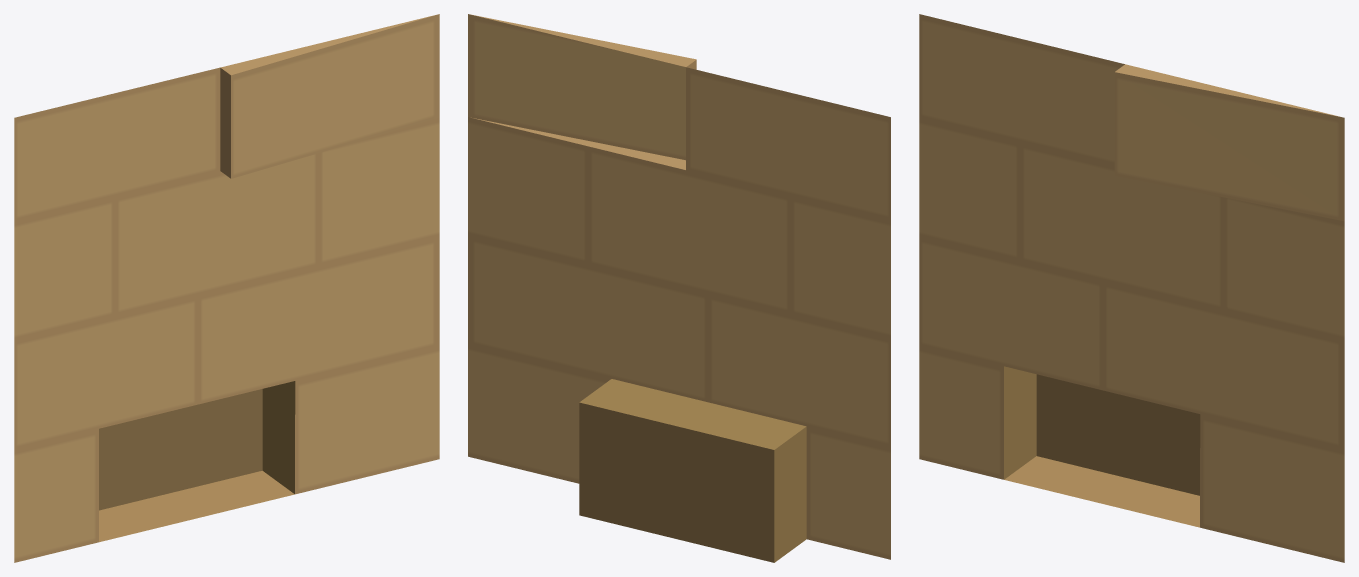
The model's file is ST_Env_Wall_Damaged_02.fbx.
The picture shows the model from 3 angles, left to right: view 1: azimuth 30°, elevation 25°; view 2: azimuth 150°, elevation 25°; view 3: azimuth 330°, elevation 25°; orthographic projection.
Parts seen in each view (by area): view 1: ST_Env_Wall_Damaged_02; view 2: ST_Env_Wall_Damaged_02; view 3: ST_Env_Wall_Damaged_02.
Part boxes in pixels (x1=…): ST_Env_Wall_Damaged_02: x1=14, y1=14, x2=439, y2=562; ST_Env_Wall_Damaged_02: x1=468, y1=14, x2=890, y2=562; ST_Env_Wall_Damaged_02: x1=919, y1=14, x2=1344, y2=562.
Bounding box in the file's own units: 5 × 5 × 0.8807.
